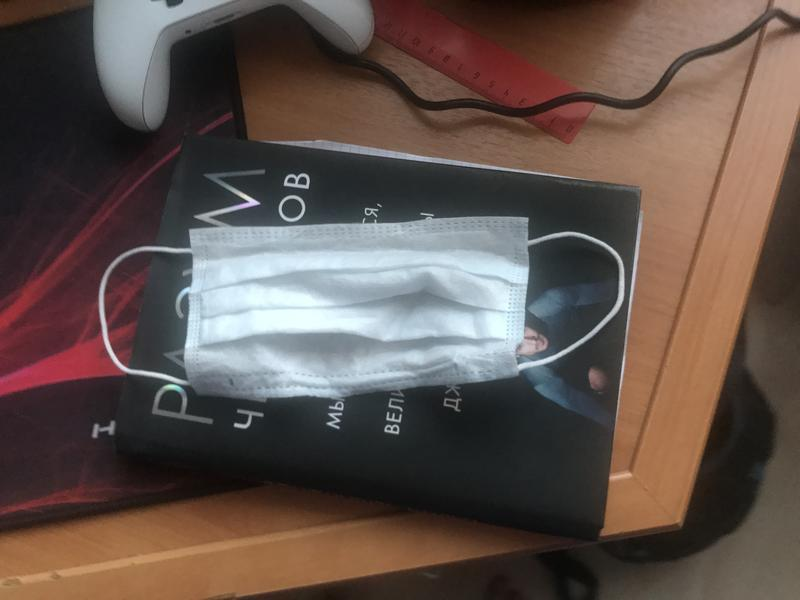medical_mask: (101, 218, 626, 394)
